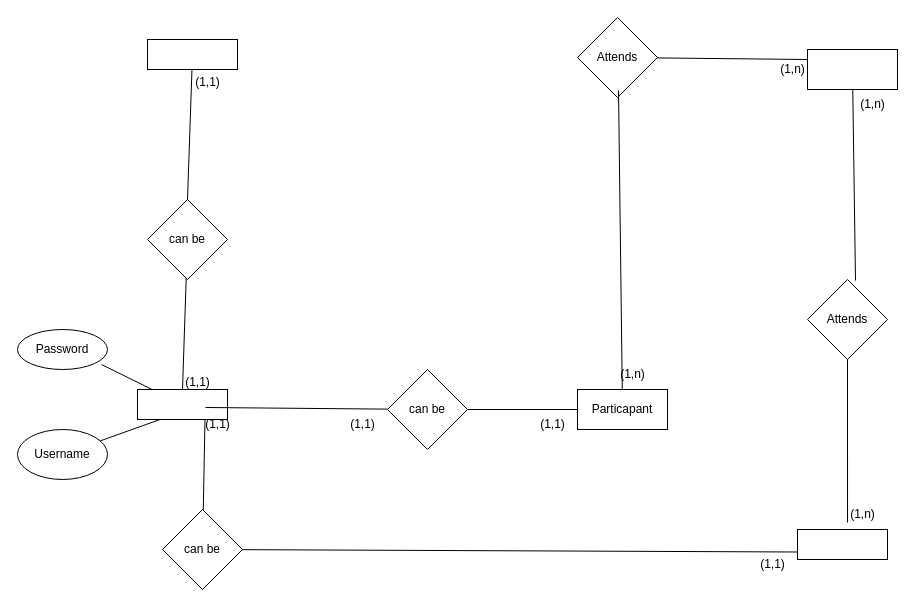
This 915x607 diagram has some shape labels left out. Here are the shapes that lost their labels. From the top down, the box of each, then its label:
(146, 38, 238, 70): Organiser
(806, 48, 898, 90): Event
(136, 388, 228, 420): User
(796, 528, 888, 560): Speaker
